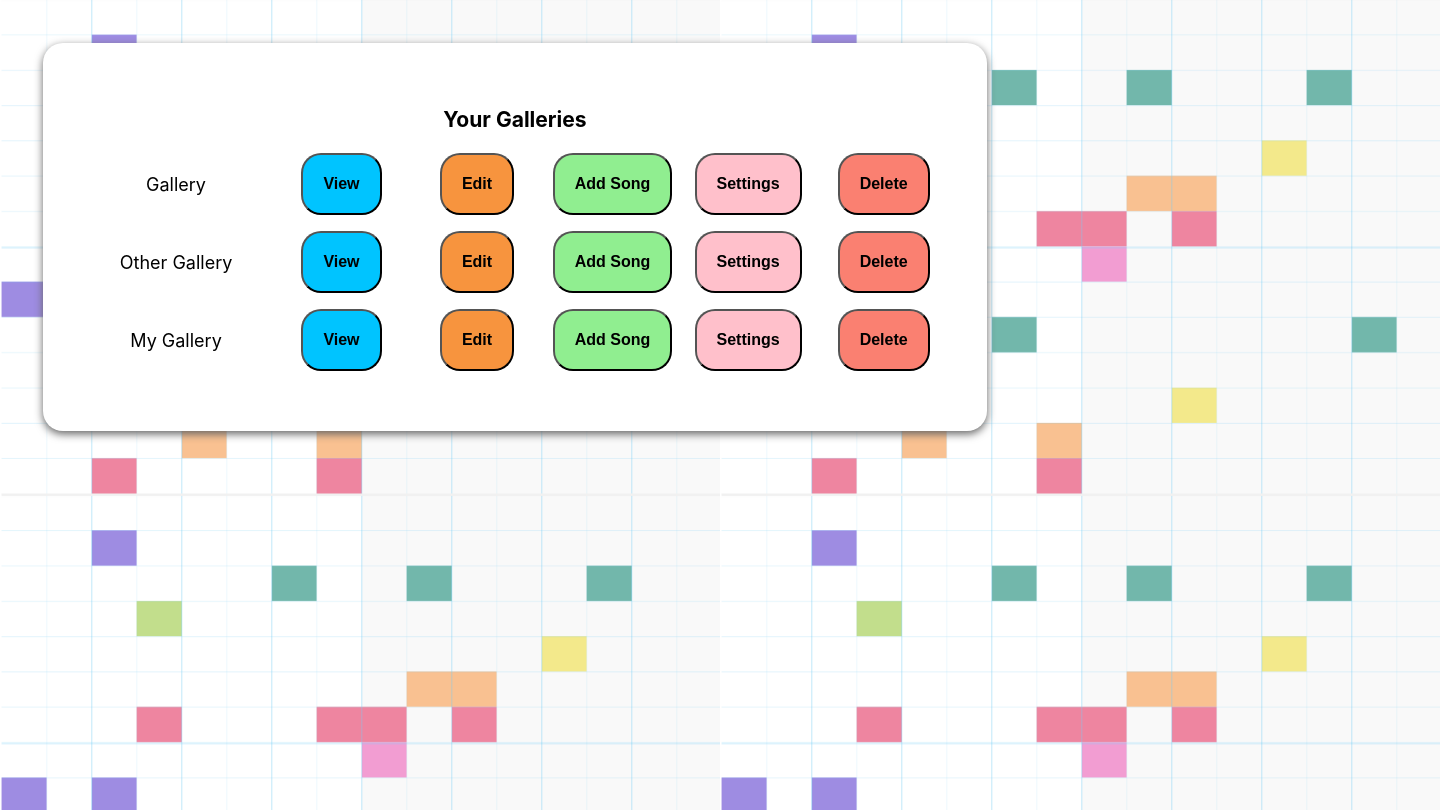
<ListGalleries /> › renders modal to confirm gallery deletion
Click the 1st button with test id "deleteGalleryBtn": (884, 184) [838,154,930,216]
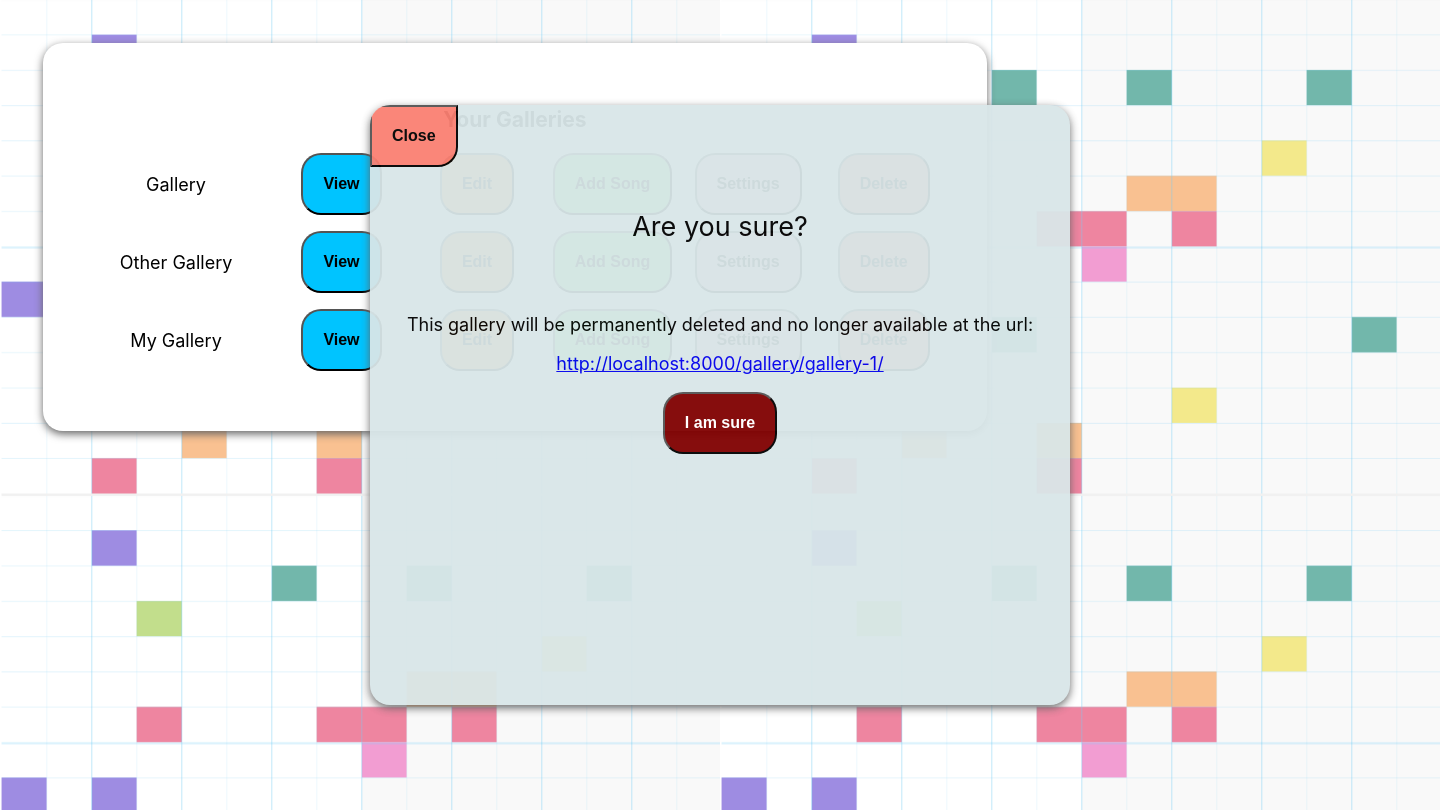
Expected: the element with test id "blanket" is shown, [370,105,1070,705]
Expected: the heading "Are you sure?" is shown, [632,210,808,243]
Expected: the link with test id "lastChanceLink" reads "http://localhost:8000/gallery/gallery-1/", [556,353,884,374]
